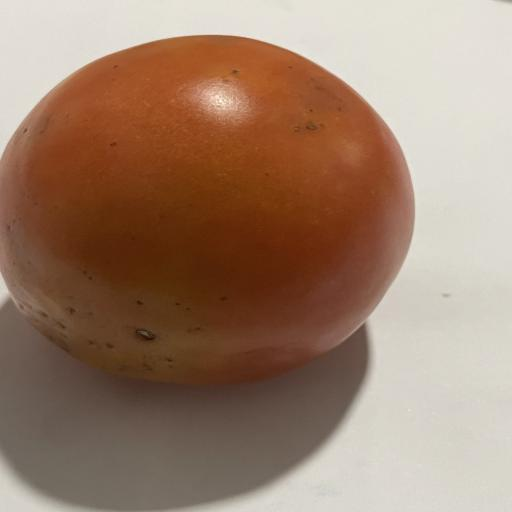unripe: (0, 36, 414, 384)
